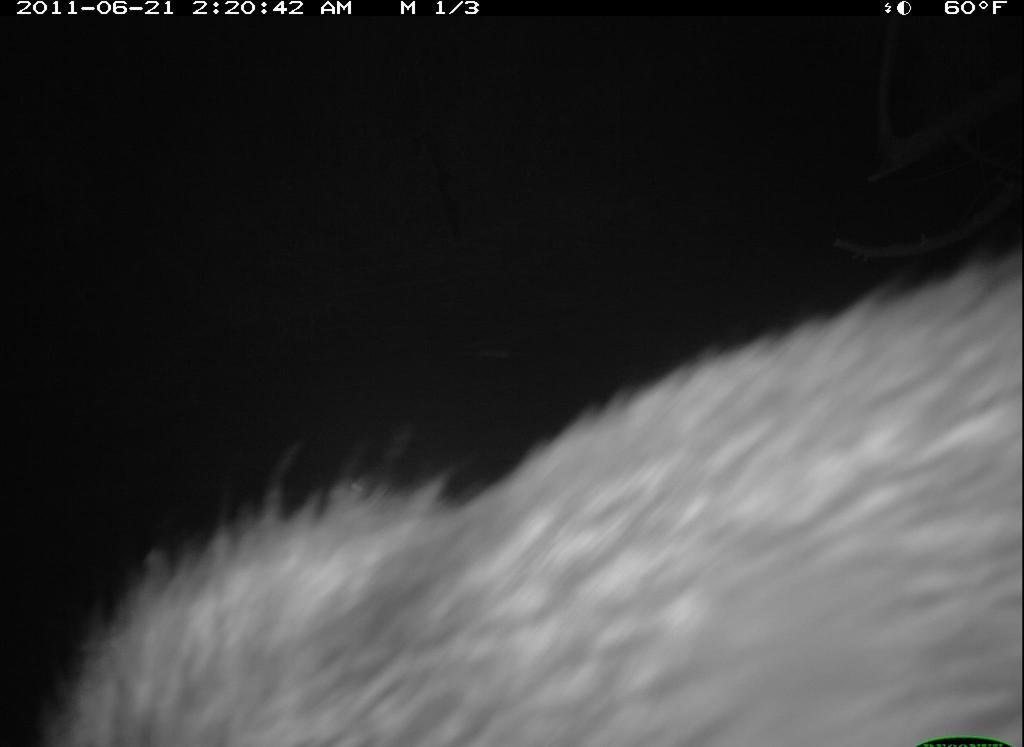raccoon: (21, 246, 1023, 747)
